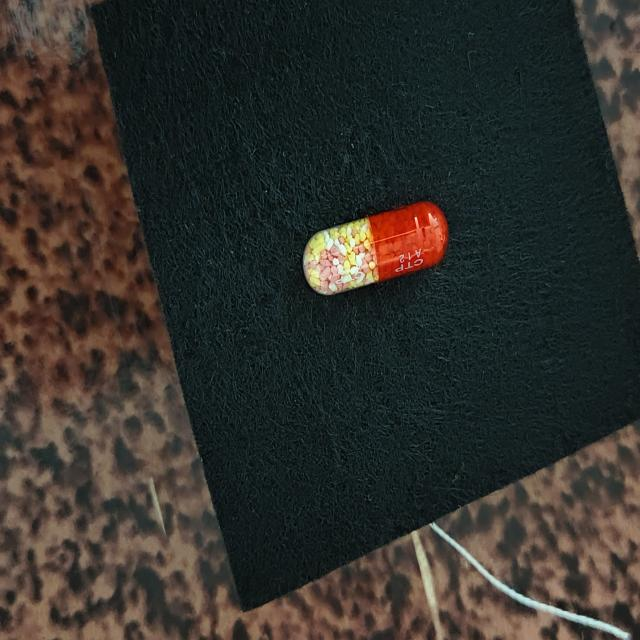Intact Capsule: (303, 201, 449, 295)
